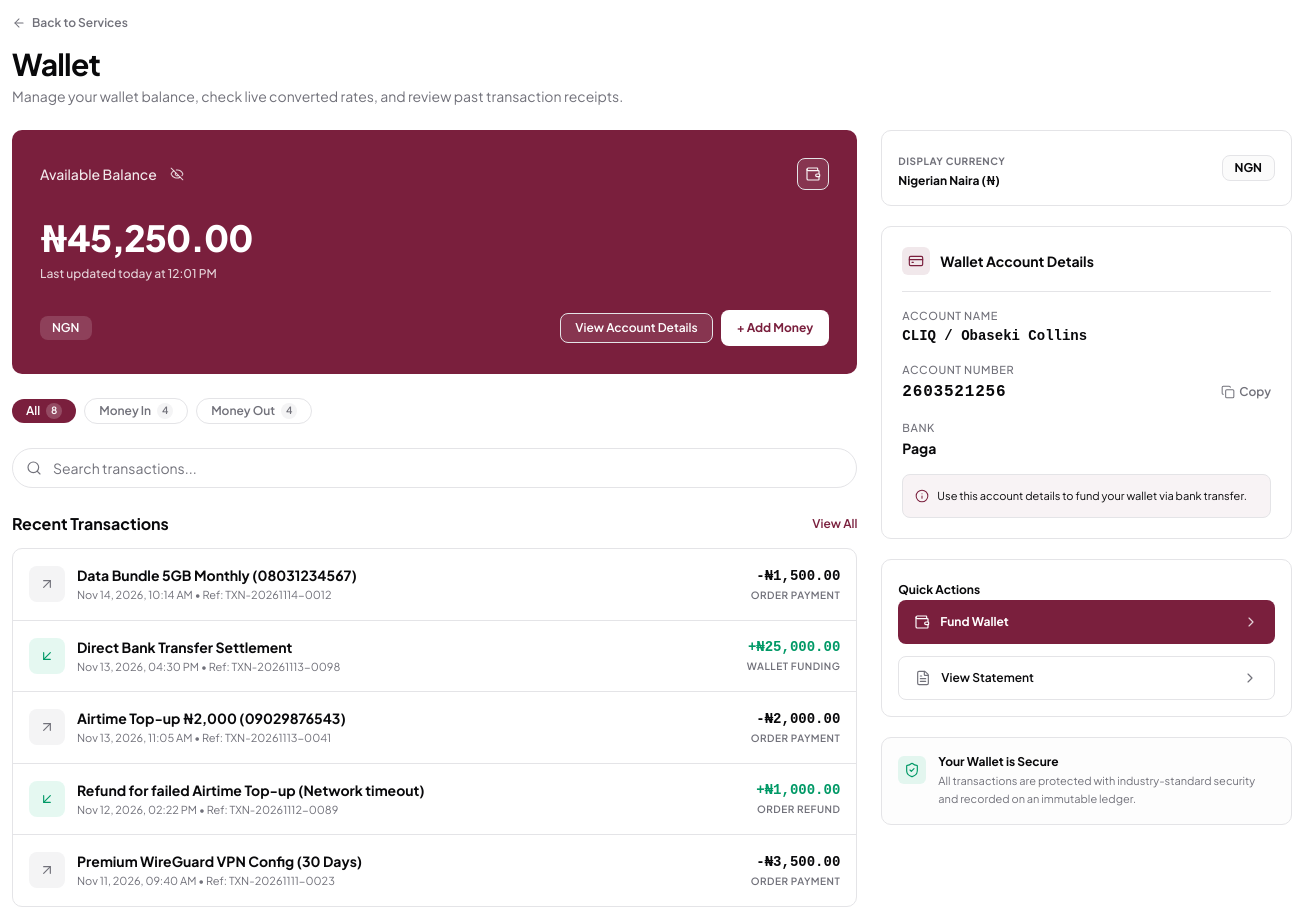
Test: WalletView Component › masks balance when clicking privacy eye toggle button
Click the button named "hide balance" at (177, 174), box 165,162 -> 189,186
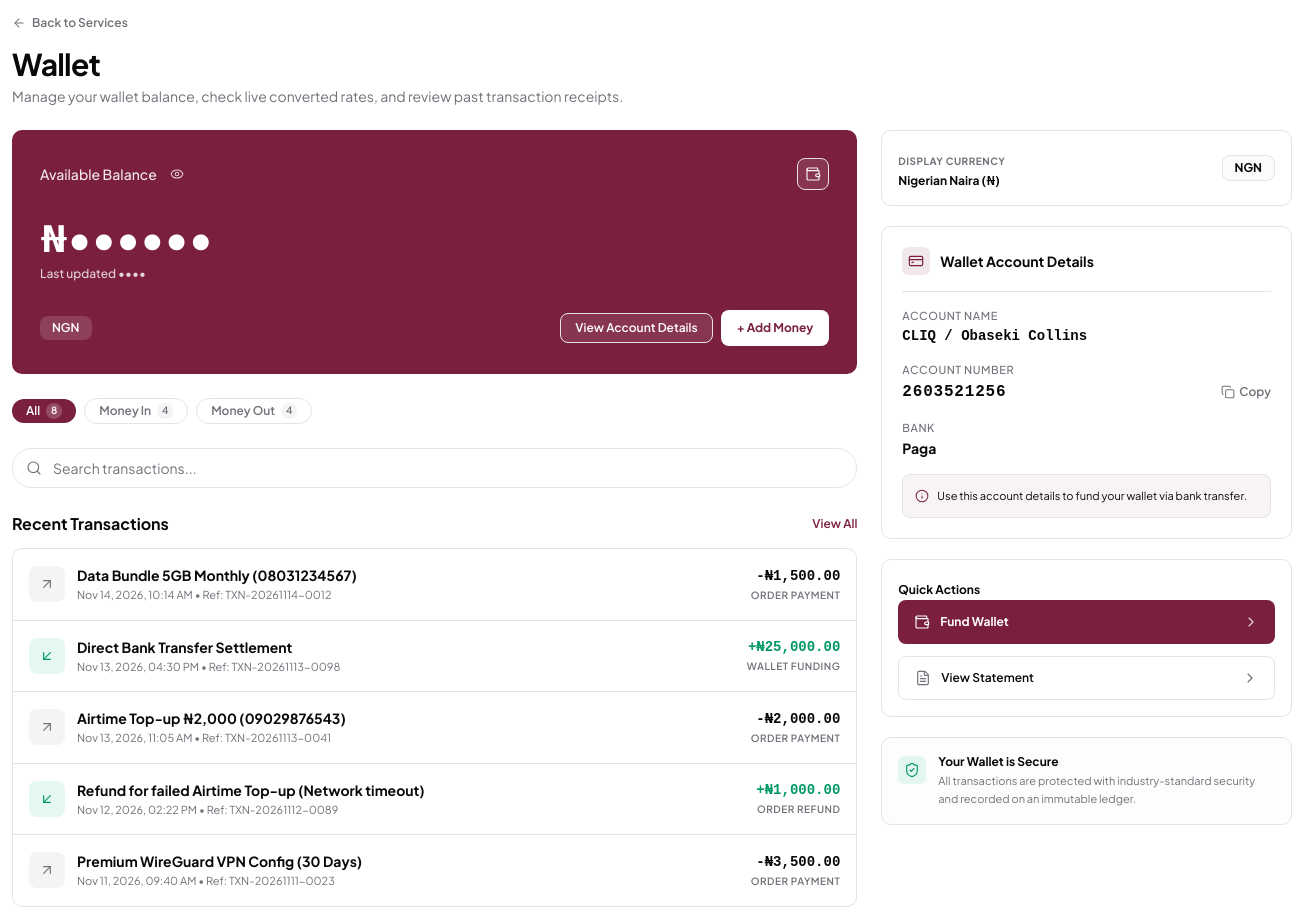
Result: the text with test id "wallet-large-balance" reads "₦••••••" at 40,215 -> 212,260
Click the button named "show balance" at (177, 174), box 165,162 -> 189,186
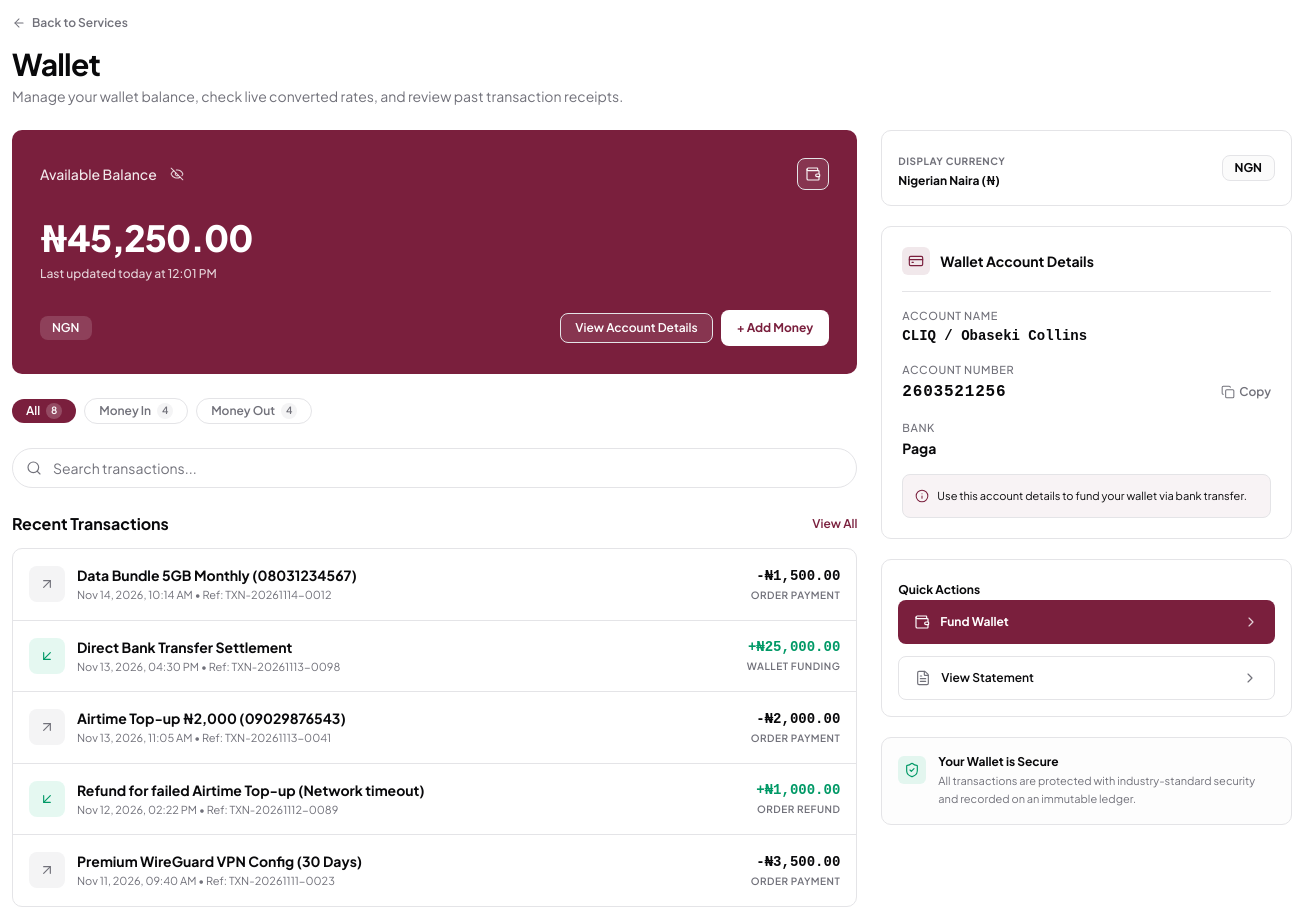
Result: the text with test id "wallet-large-balance" reads "₦45,250.00" at 40,215 -> 253,260
